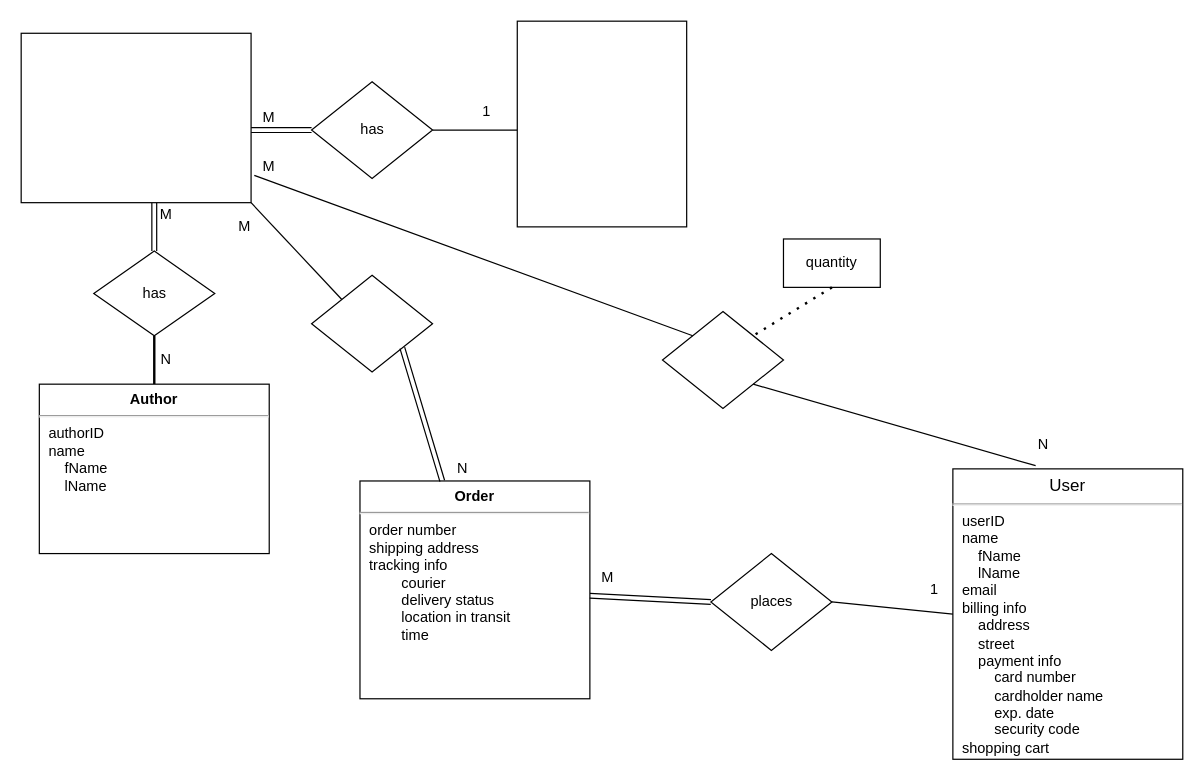
This 1204x780 diagram has some shape labels left out. The centre of each missing label's shape, as x and y in pixels:
Book ISBN name genre numberOfPages price commision stock: (x=135, y=117)
contains: (x=371, y=323)
placesInCart: (x=722, y=359)
Publisher publisherID name fName lName address email phoneNumber bankAccount: (x=601, y=123)
